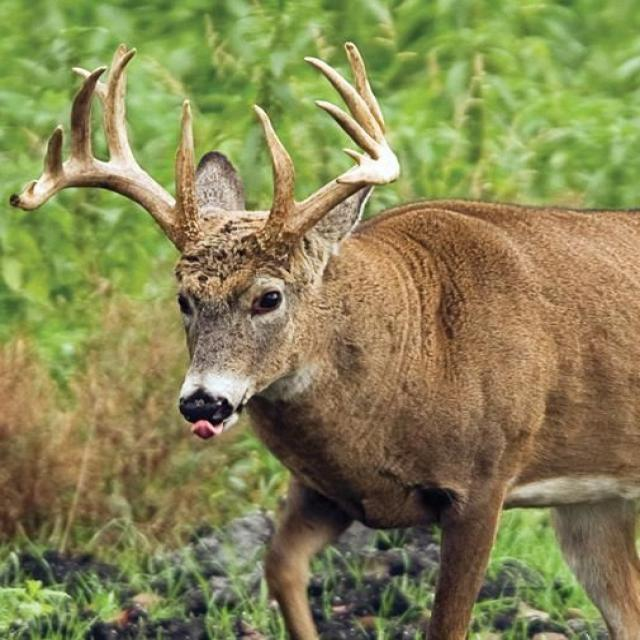E1: (343, 148, 375, 167), (127, 47, 137, 66)
L-F: (256, 157, 400, 257)
L-G1: (252, 104, 295, 209)
L-G3: (304, 55, 392, 153)
L-G4: (314, 99, 387, 161)
R-F: (8, 157, 205, 254)
R-G1: (174, 97, 198, 213)
R-G2: (104, 42, 138, 167)
R-G3: (71, 68, 107, 159)
R-G4: (43, 125, 64, 175)
